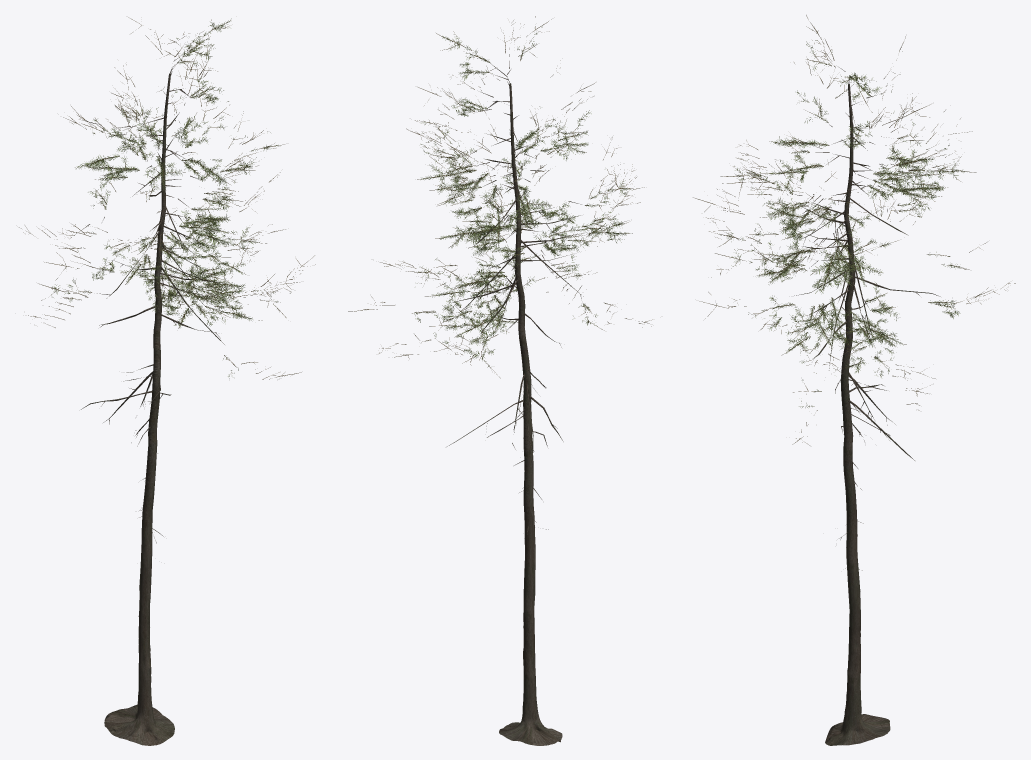
The model's file is tree-fir.glb.
3 renders of one model, left to right at view 1: azimuth 30°, elevation 25°; view 2: azimuth 150°, elevation 25°; view 3: azimuth 270°, elevation 25°, orthographic. The views are drawn at different scales.
Visible parts, largest first — view 1: fir_tree_01_c; view 2: fir_tree_01_c; view 3: fir_tree_01_c.
Boxes of the visible parts, x1,y1,x2,y2 form: fir_tree_01_c: (19,17,315,745); fir_tree_01_c: (348,16,652,745); fir_tree_01_c: (693,15,1015,745).
Size of the model in its own units: 6.26 by 14.49 by 5.89.
4 materials, 4 textured.
